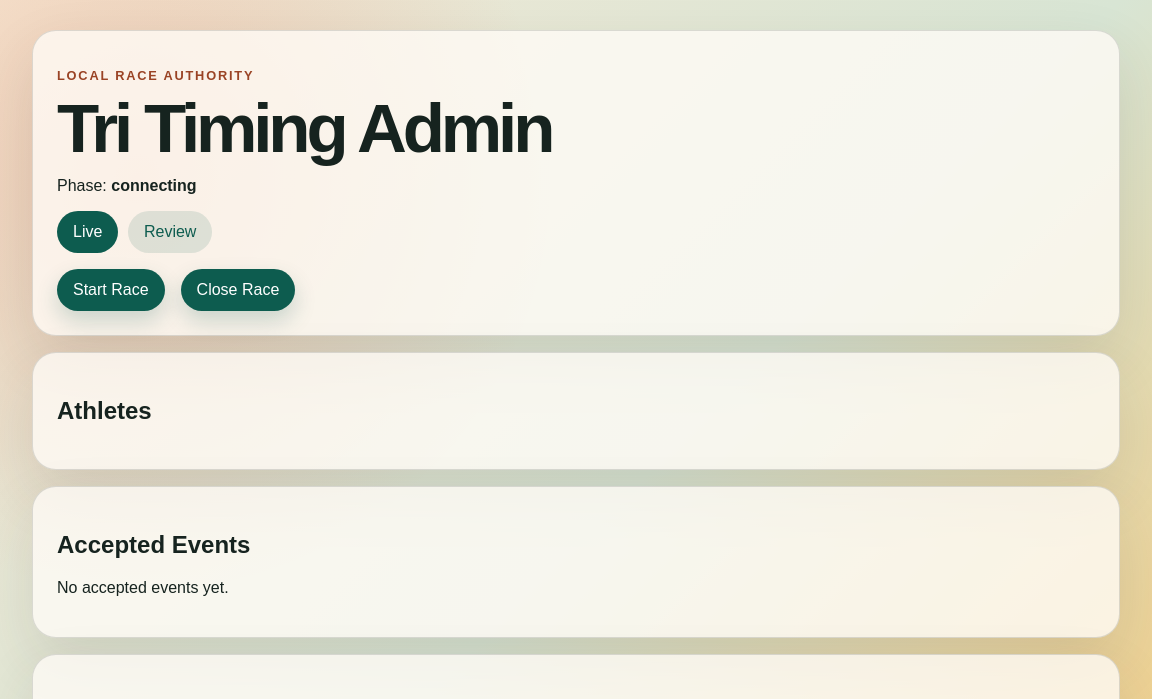
Test: review mode renders timeline metadata, raw detections, correction log, and review_state SSE
What coordinates should you click on to do the following:
click the tab "Review"
I would click on:
 (170, 232)
Its box is [128,211,212,253].
(page scrolled)
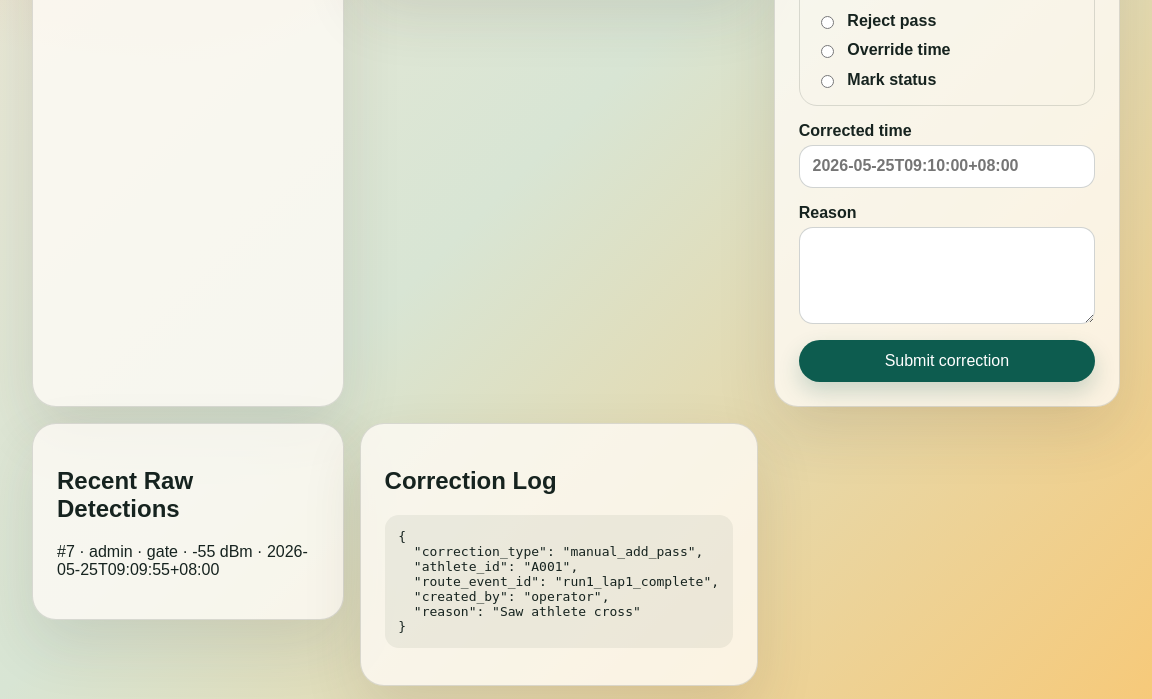
Result: the text "#7 · admin · gate · -55 dBm · 2026-05-25T09:09:55+08:00" is shown at [57,543,319,579]
Result: the text "manual_add_pass" is shown at [398,529,719,634]
